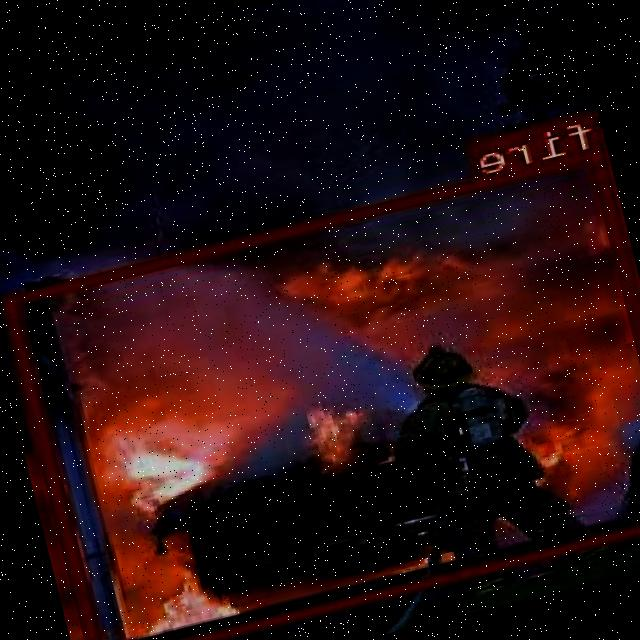fire: (5, 145, 640, 640)
